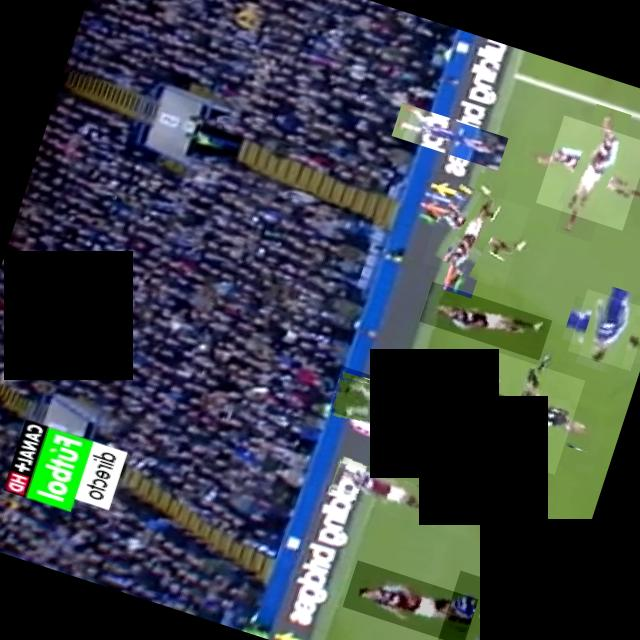referee: (462, 350, 586, 474)
soccer-player: (536, 114, 640, 230), (422, 181, 530, 288), (342, 559, 478, 640), (420, 282, 552, 361), (426, 377, 526, 477), (328, 456, 449, 528), (330, 366, 443, 442), (392, 102, 508, 170), (433, 569, 544, 640), (568, 288, 640, 370)
